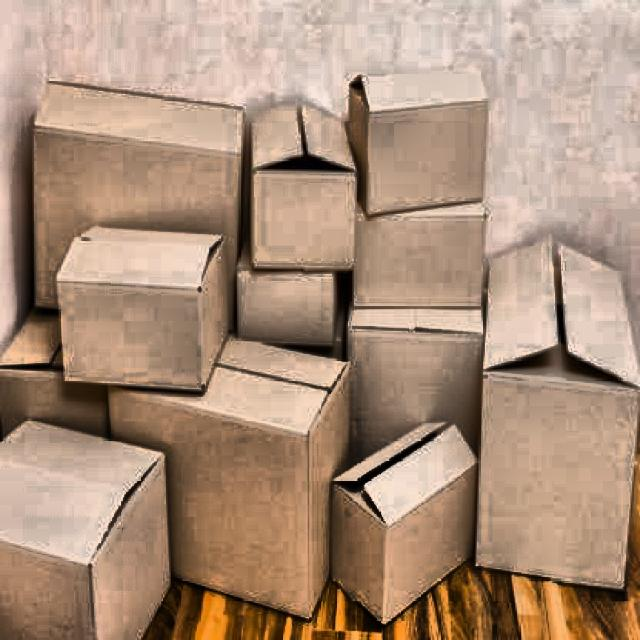Cardbox: (0, 216, 445, 635), (47, 67, 364, 427), (470, 231, 638, 609), (331, 287, 494, 533), (54, 222, 240, 402), (346, 58, 516, 222), (331, 182, 498, 330)
